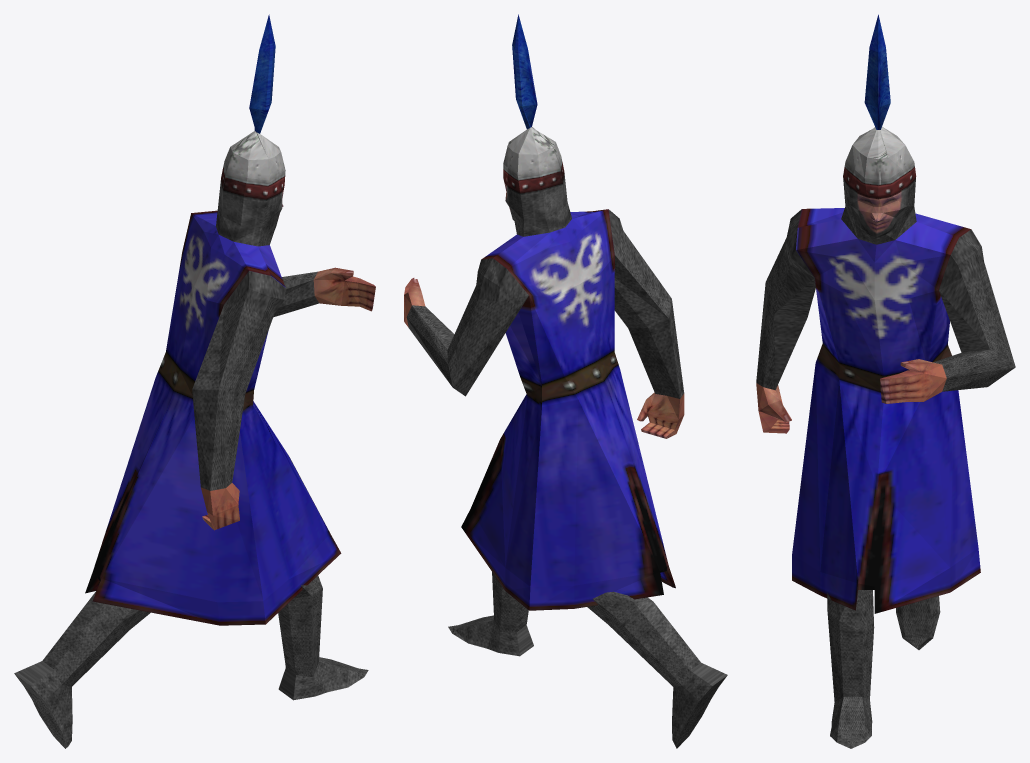
File: guard_run19.obj
The picture shows the model from 3 angles, left to right: view 1: azimuth 30°, elevation 25°; view 2: azimuth 150°, elevation 25°; view 3: azimuth 270°, elevation 25°; orthographic projection. The views are drawn at different scales.
Parts seen in each view (by area): view 1: Object_1; view 2: Object_1; view 3: Object_1.
Part boxes in pixels (left/top/right/bottom): Object_1: left=14, top=14, right=375, bottom=748; Object_1: left=404, top=14, right=727, bottom=748; Object_1: left=756, top=14, right=1015, bottom=748.
Bounding box in the file's own units: 1.1 × 2.19 × 0.7072.
Materials: 1 (1 with a texture image).
